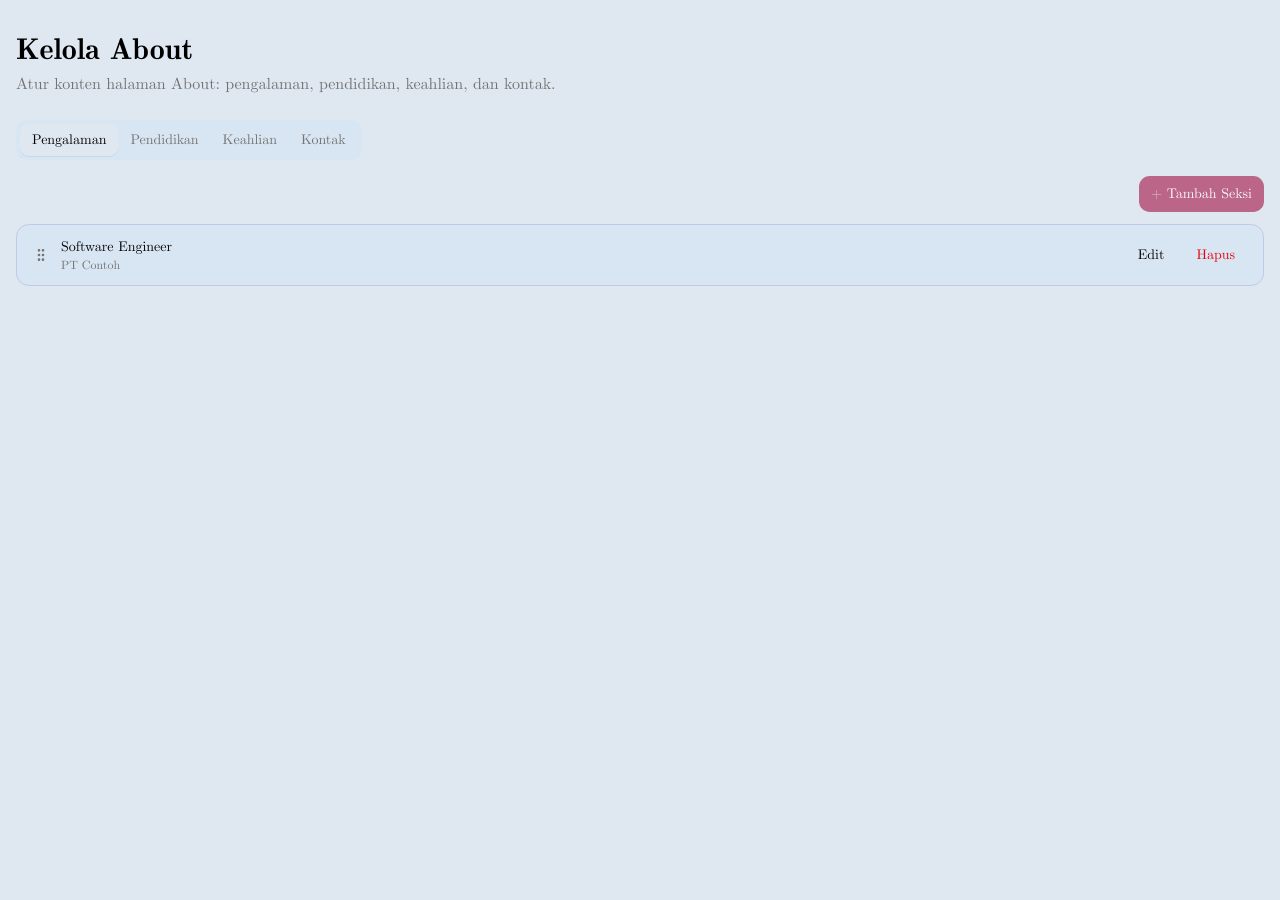
Scenario: AboutAdminPage › tombol hapus menampilkan AlertDialog konfirmasi
This screenshot has width=1280, height=900.
# Find the delete button for the section
Click the button with test id "delete-button".
click(1216, 255)  # box [1184,237,1247,273]
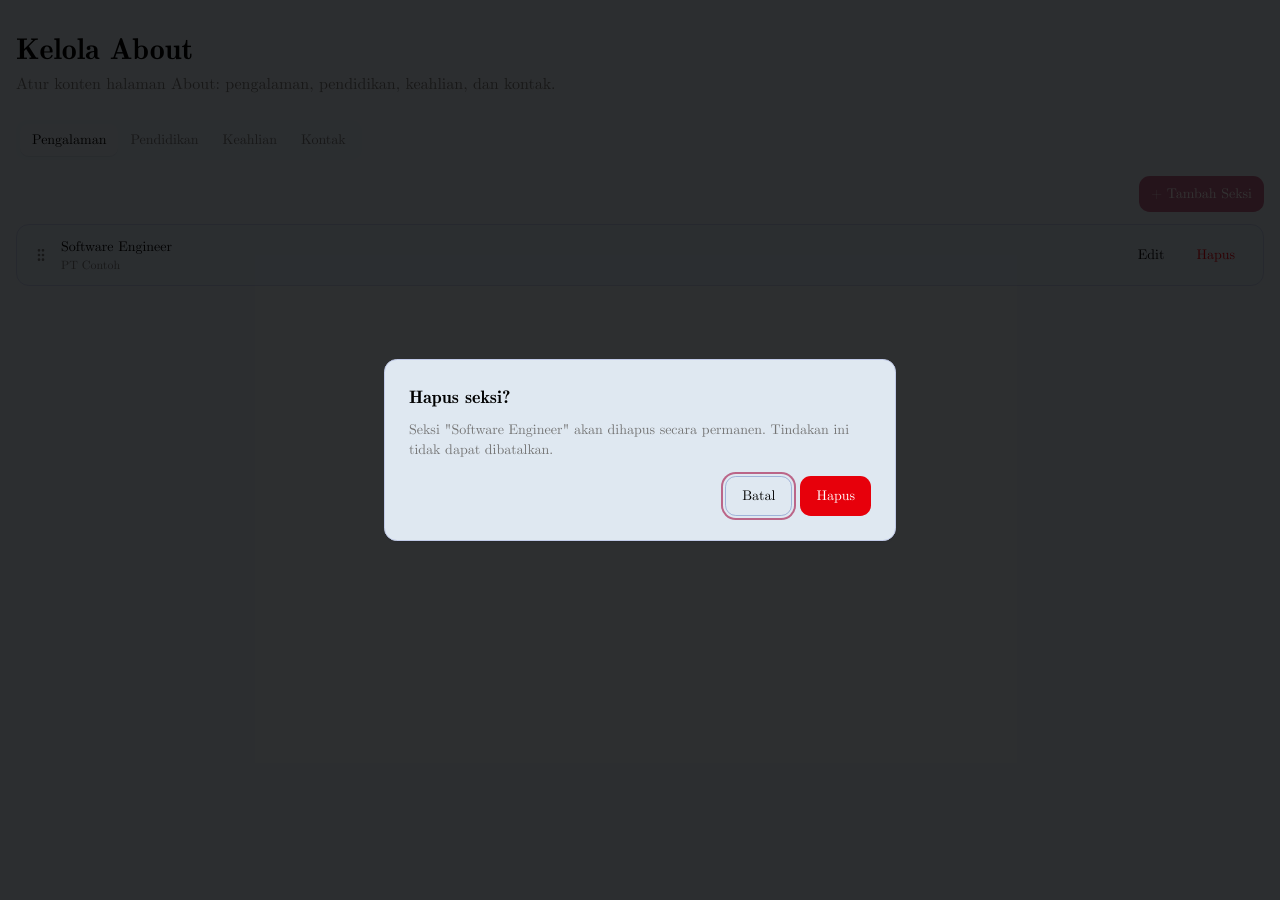
Check: the heading "Hapus seksi?" is shown, box [409,389,510,407]
Check: the button with test id "confirm-delete-button" is shown, box [800,476,871,516]
Check: the button "Batal" is shown, box [725,476,792,516]
